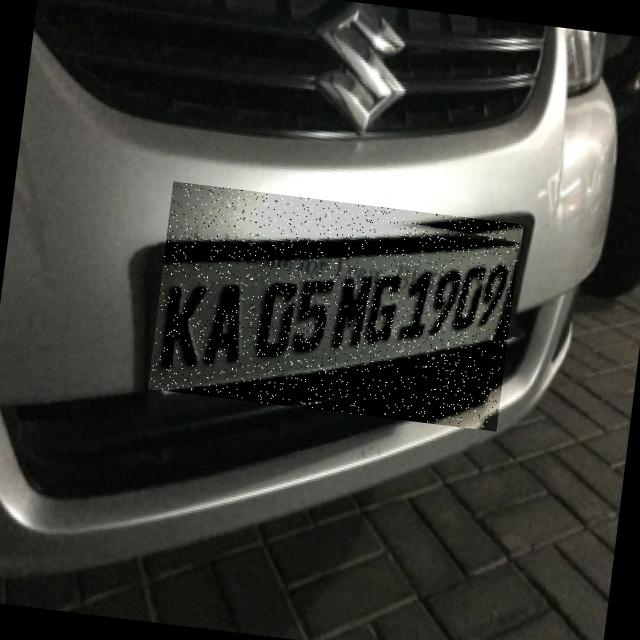Plate: (149, 182, 523, 432)
